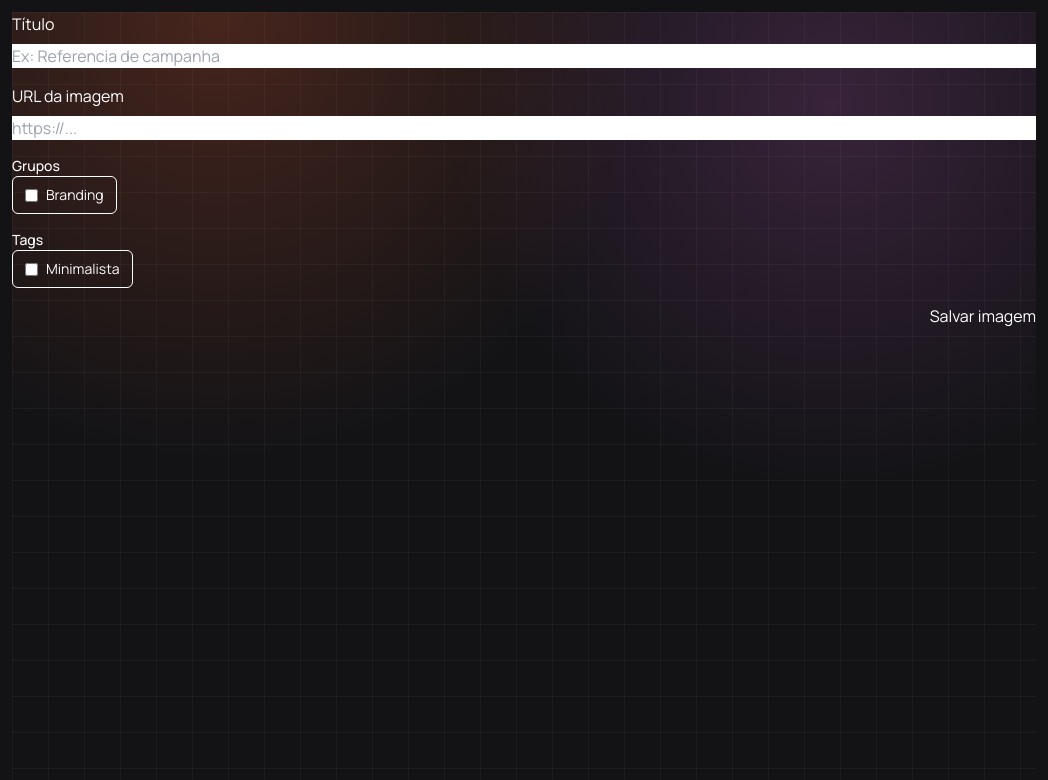
ImageForm › shows validation errors for required title and invalid URL
Type "not-a-url" into the field labelled "URL da imagem". click: (524,128)
box: [12, 116, 1036, 140]
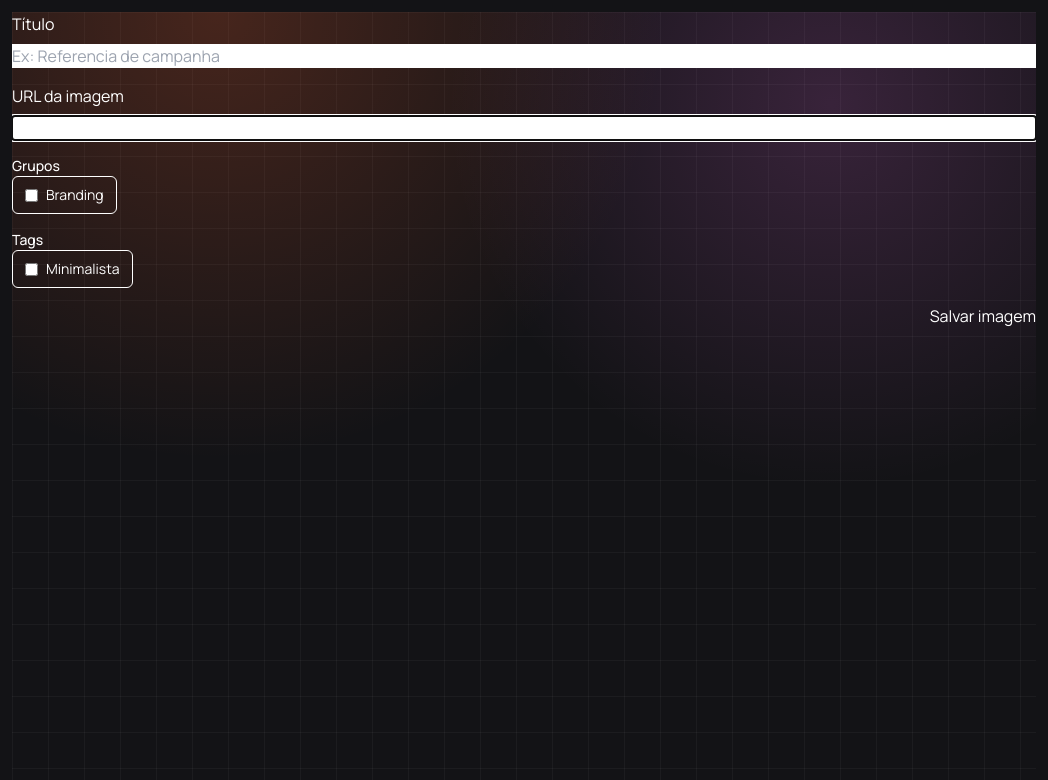
Click the button "Salvar imagem". click: (983,316)
box: [930, 304, 1036, 328]
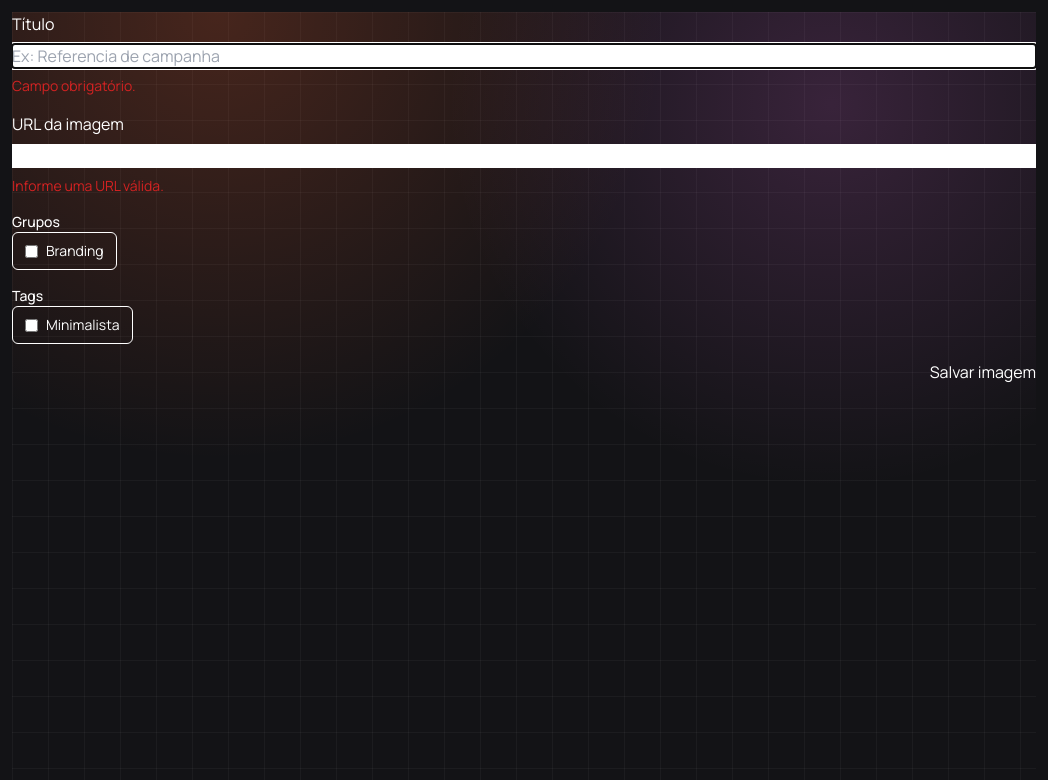
Result: the text "Campo obrigatório." is shown at [12, 76, 136, 95]
Result: the text "Informe uma URL válida." is shown at [12, 176, 164, 195]
